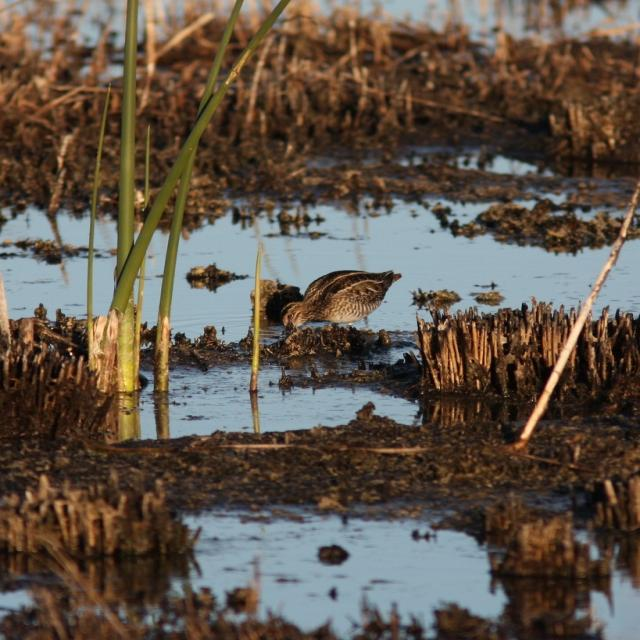bird: (272, 268, 403, 336)
